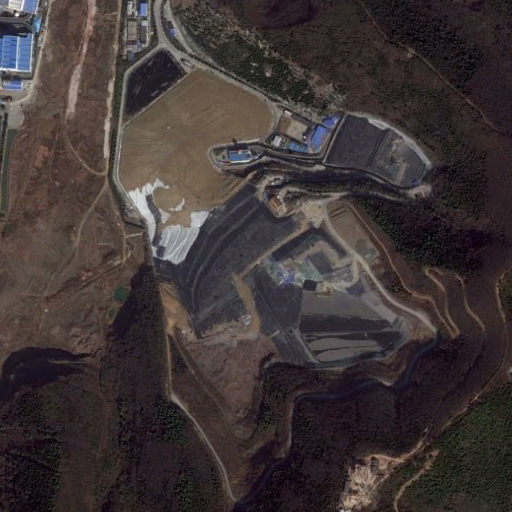lf: (125, 183, 436, 486), (324, 109, 428, 187)
